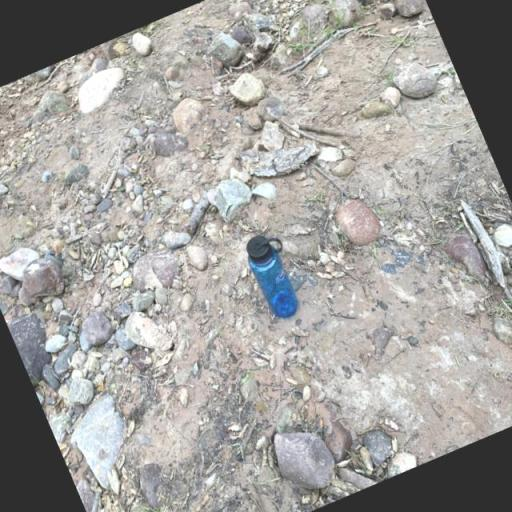bottle: (240, 228, 310, 322)
